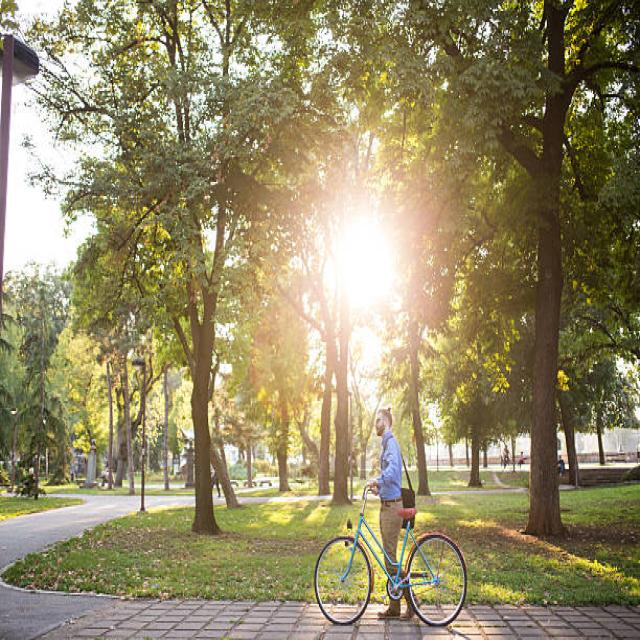bicycle: (314, 407, 466, 626)
